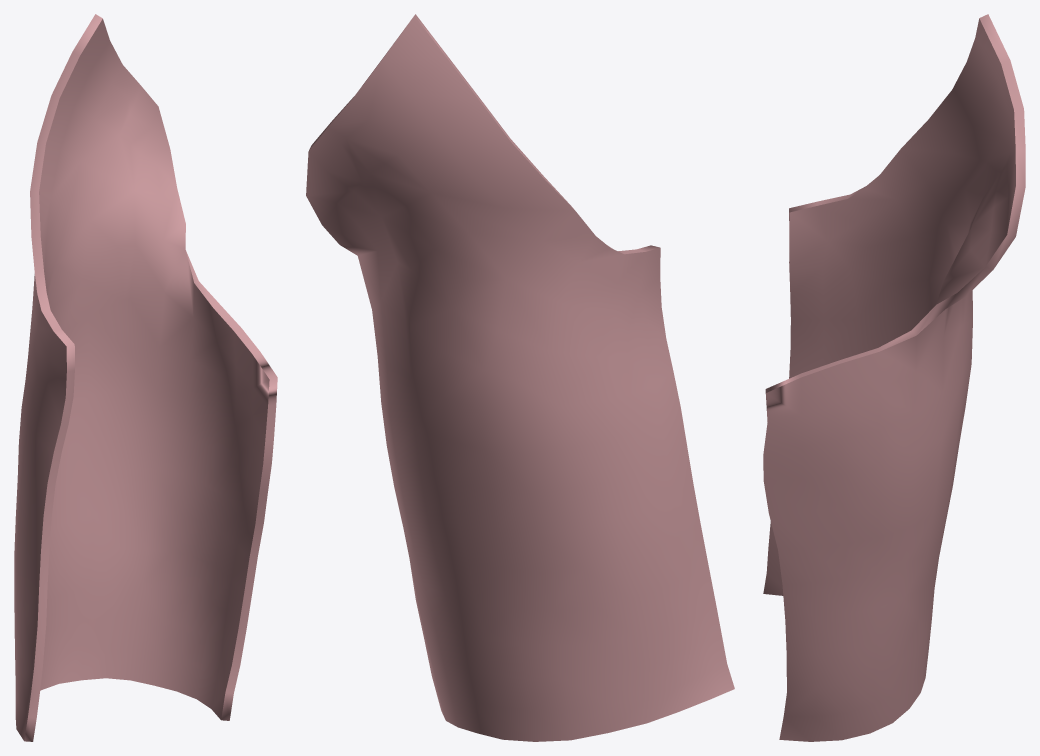
3 views of the same model, side by side, from view 1: azimuth 30°, elevation 25°; view 2: azimuth 150°, elevation 25°; view 3: azimuth 270°, elevation 25° (orthographic). The views are drawn at different scales.
Parts seen in each view (by area): view 1: ZA_58babefad2694da9; view 2: ZA_58babefad2694da9; view 3: ZA_58babefad2694da9.
Boxes of the visible parts, x1=… form: ZA_58babefad2694da9: x1=14, y1=14, x2=277, y2=741; ZA_58babefad2694da9: x1=306, y1=14, x2=734, y2=741; ZA_58babefad2694da9: x1=763, y1=14, x2=1025, y2=741.
Size of the model in its own units: 0.0943 by 0.227 by 0.0766.
